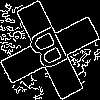B: (25, 25, 76, 81)
